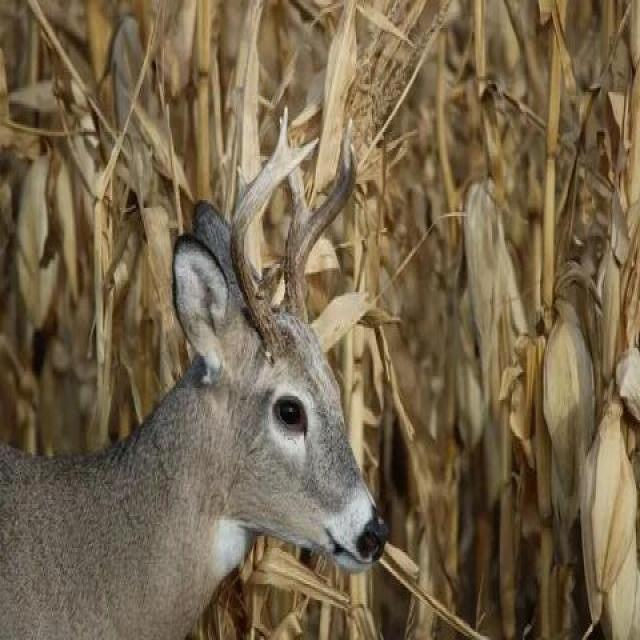deer: (34, 135, 359, 629)
